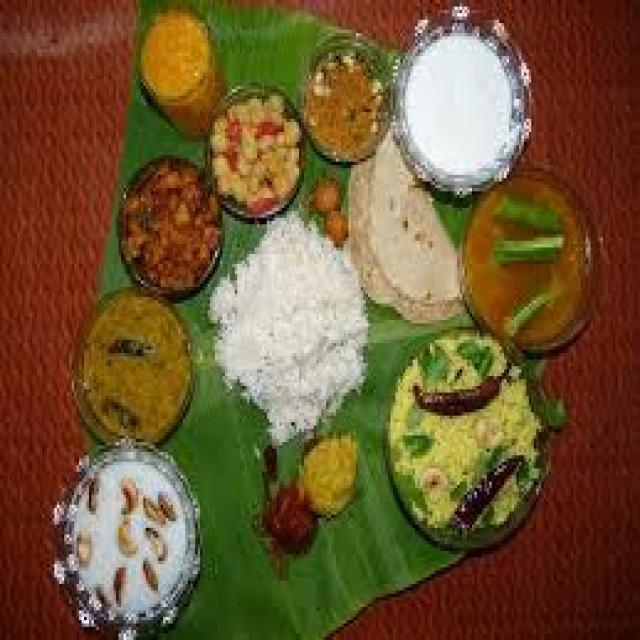curd: (389, 15, 530, 192)
dal: (73, 294, 198, 449)
rice: (211, 222, 366, 426)
roti: (347, 147, 463, 321)
sambar-rasam: (456, 170, 590, 344)
sweet: (67, 449, 206, 628)
